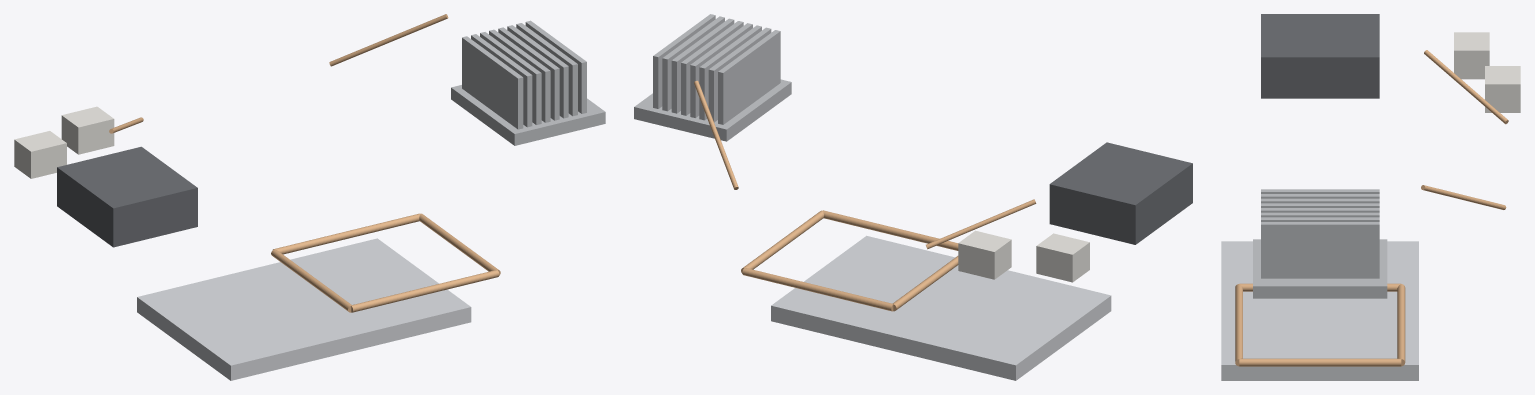
Rendered from exploded.glb.
The picture shows the model from 3 angles, left to right: view 1: azimuth 30°, elevation 25°; view 2: azimuth 150°, elevation 25°; view 3: azimuth 270°, elevation 25°; orthographic projection. The views are drawn at different scales.
Visible parts, largest first — view 1: assembly_base, heat_sink, heat_source, coolant_loop, module_02, module_01, link_coolant_loop__heat_sink; view 2: assembly_base, heat_sink, heat_source, coolant_loop, module_01, module_02, link_coolant_loop__heat_source, link_coolant_loop__heat_sink; view 3: assembly_base, heat_sink, heat_source, coolant_loop, module_01, module_02, link_coolant_loop__heat_source, link_coolant_loop__heat_sink.
Part boxes in pixels (x1=…): assembly_base: x1=137, y1=238, x2=471, y2=380; heat_sink: x1=451, y1=20, x2=605, y2=145; heat_source: x1=57, y1=146, x2=197, y2=247; coolant_loop: x1=271, y1=213, x2=500, y2=312; module_02: x1=61, y1=106, x2=114, y2=154; module_01: x1=14, y1=131, x2=66, y2=178; link_coolant_loop__heat_sink: x1=329, y1=14, x2=448, y2=66; assembly_base: x1=771, y1=235, x2=1111, y2=380; heat_sink: x1=634, y1=14, x2=791, y2=141; heat_source: x1=1049, y1=142, x2=1192, y2=244; coolant_loop: x1=741, y1=210, x2=958, y2=311; module_01: x1=1036, y1=233, x2=1089, y2=282; module_02: x1=958, y1=230, x2=1011, y2=279; link_coolant_loop__heat_source: x1=926, y1=199, x2=1036, y2=249; link_coolant_loop__heat_sink: x1=694, y1=80, x2=738, y2=189; assembly_base: x1=1221, y1=241, x2=1418, y2=380; heat_sink: x1=1253, y1=189, x2=1387, y2=298; heat_source: x1=1261, y1=14, x2=1379, y2=98; coolant_loop: x1=1235, y1=283, x2=1405, y2=366; module_01: x1=1454, y1=32, x2=1489, y2=79; module_02: x1=1485, y1=66, x2=1520, y2=112; link_coolant_loop__heat_source: x1=1424, y1=50, x2=1508, y2=124; link_coolant_loop__heat_sink: x1=1421, y1=185, x2=1506, y2=209.
Size of the model in its own units: 10.02 by 4.32 by 5.05.
